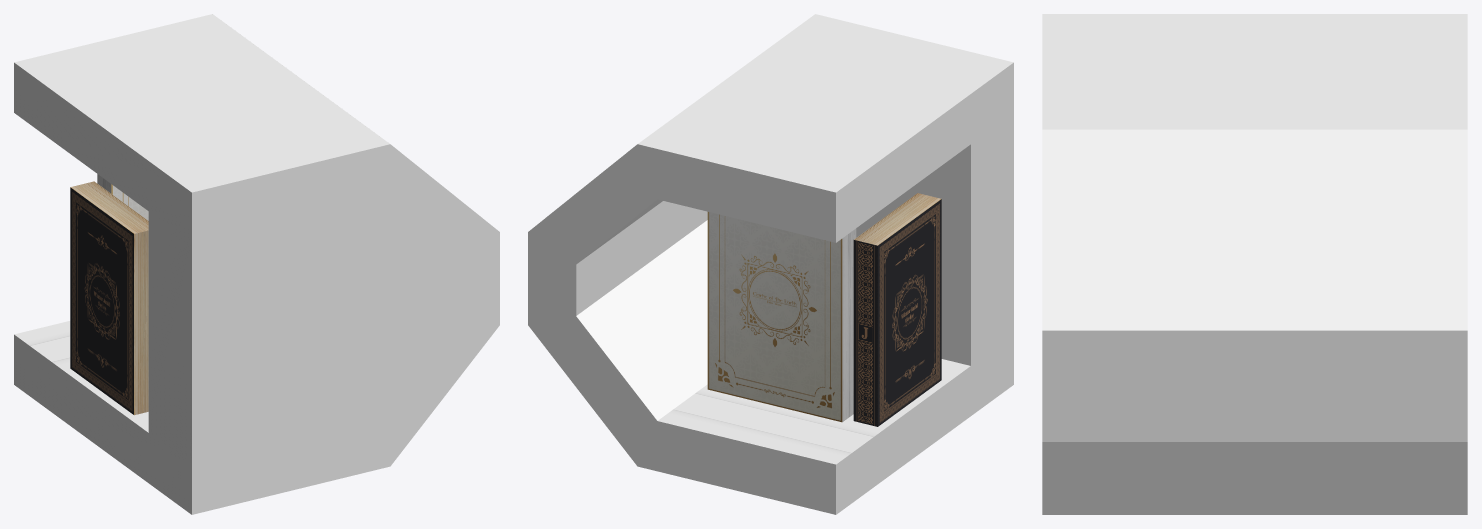
The model's file is bookshelf_end.obj.
The picture shows the model from 3 angles, left to right: view 1: azimuth 30°, elevation 25°; view 2: azimuth 150°, elevation 25°; view 3: azimuth 270°, elevation 25°; orthographic projection. The views are drawn at different scales.
Parts seen in each view (by area): view 1: cube.027, cube.026, cube.031, cube.033, cube.030, cube.029, cube.028, cube.032; view 2: cube.026, cube.031, cube.034, cube.029, cube.033, cube.027, cube.028, cube.030; view 3: cube.030, cube.026, cube.028, cube.029.
Boxes of the visible parts, left/top/right/bottom form: cube.027: left=148, top=183, right=436, bottom=464; cube.026: left=14, top=14, right=390, bottom=242; cube.031: left=14, top=321, right=390, bottom=514; cube.033: left=70, top=181, right=148, bottom=415; cube.030: left=357, top=144, right=499, bottom=275; cube.029: left=356, top=298, right=499, bottom=466; cube.028: left=451, top=232, right=499, bottom=325; cube.032: left=436, top=251, right=452, bottom=335; cube.026: left=637, top=14, right=1013, bottom=242; cube.031: left=637, top=334, right=1013, bottom=514; cube.034: left=707, top=212, right=856, bottom=422; cube.029: left=528, top=220, right=707, bottom=466; cube.033: left=853, top=193, right=941, bottom=426; cube.027: left=856, top=113, right=1013, bottom=365; cube.028: left=528, top=201, right=707, bottom=336; cube.030: left=528, top=144, right=670, bottom=273; cube.030: left=1042, top=129, right=1467, bottom=330; cube.026: left=1042, top=14, right=1467, bottom=129; cube.028: left=1042, top=330, right=1467, bottom=441; cube.029: left=1042, top=442, right=1467, bottom=514.
Bounding box in the file's own units: 1 × 1 × 1.
